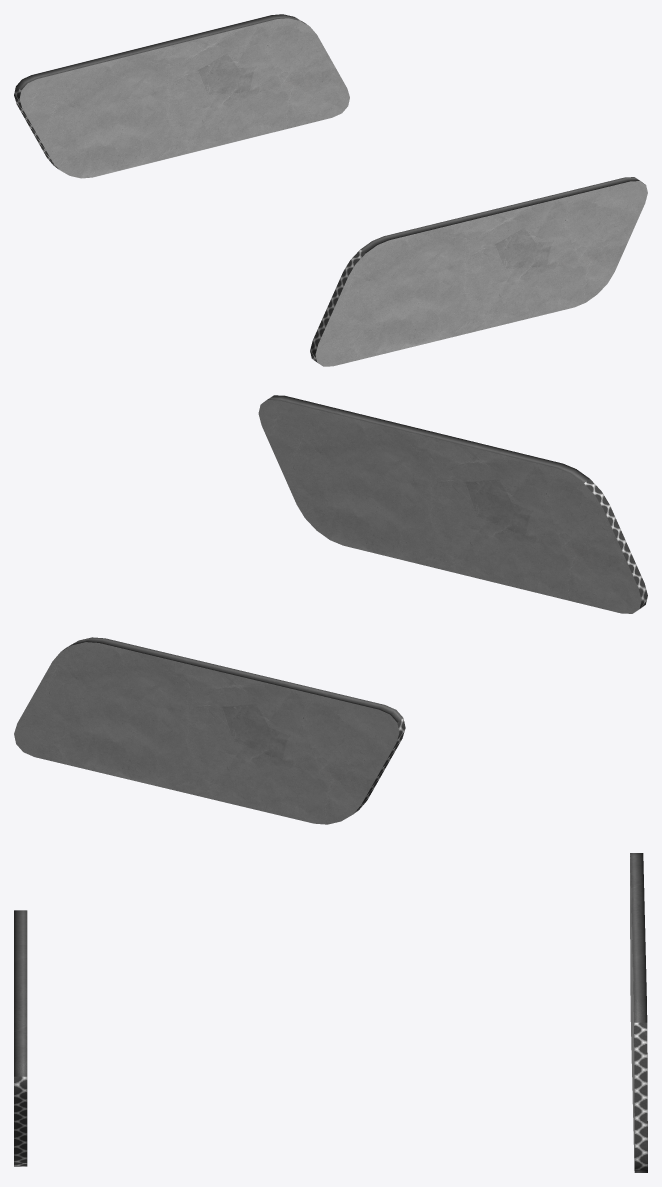
Rendered from gasStation_signs.fbx.
The picture shows the model from 3 angles, top to bottom: view 1: azimuth 30°, elevation 25°; view 2: azimuth 150°, elevation 25°; view 3: azimuth 270°, elevation 25°; orthographic projection. The views are drawn at different scales.
Visible parts, largest first — view 1: gasStation_signs; view 2: gasStation_signs; view 3: gasStation_signs.
Boxes of the visible parts, x1,y1,x2,y2 form: gasStation_signs: (14,14,647,366); gasStation_signs: (14,395,647,824); gasStation_signs: (14,853,647,1172).
Bounding box in the file's own units: 652 × 187 × 784.
